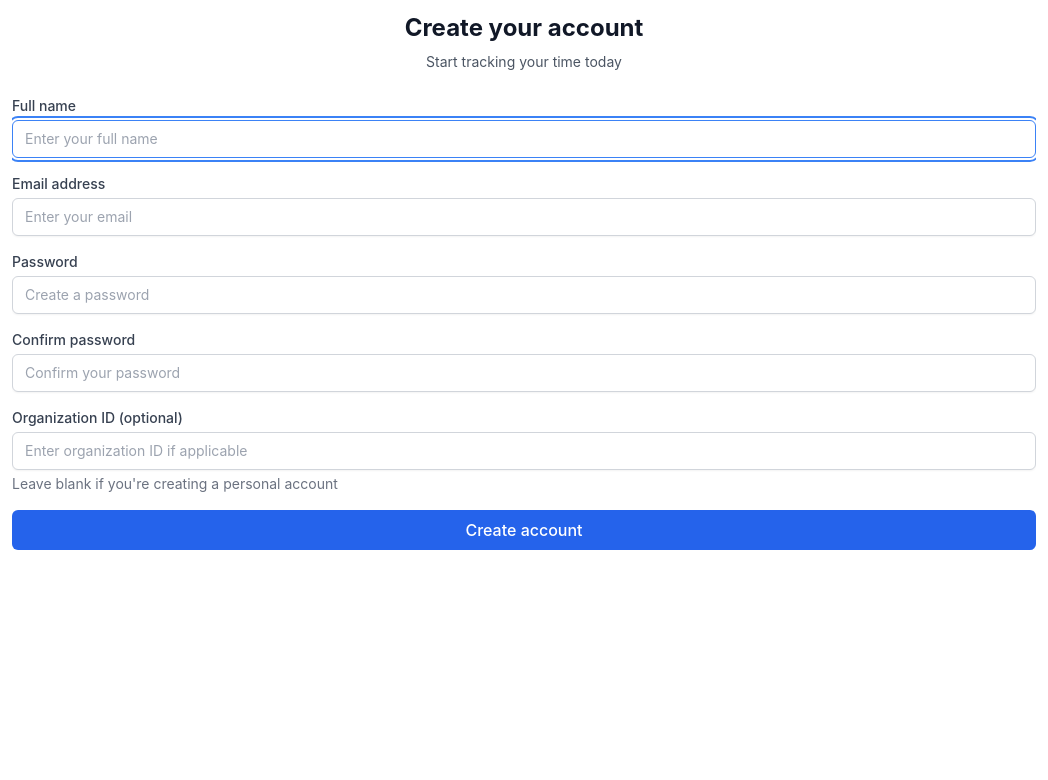
RegisterForm › validates password confirmation
Type "password123" into the password field labelled "Password".
click(524, 295); type("password123")  # box [12, 276, 1036, 314]
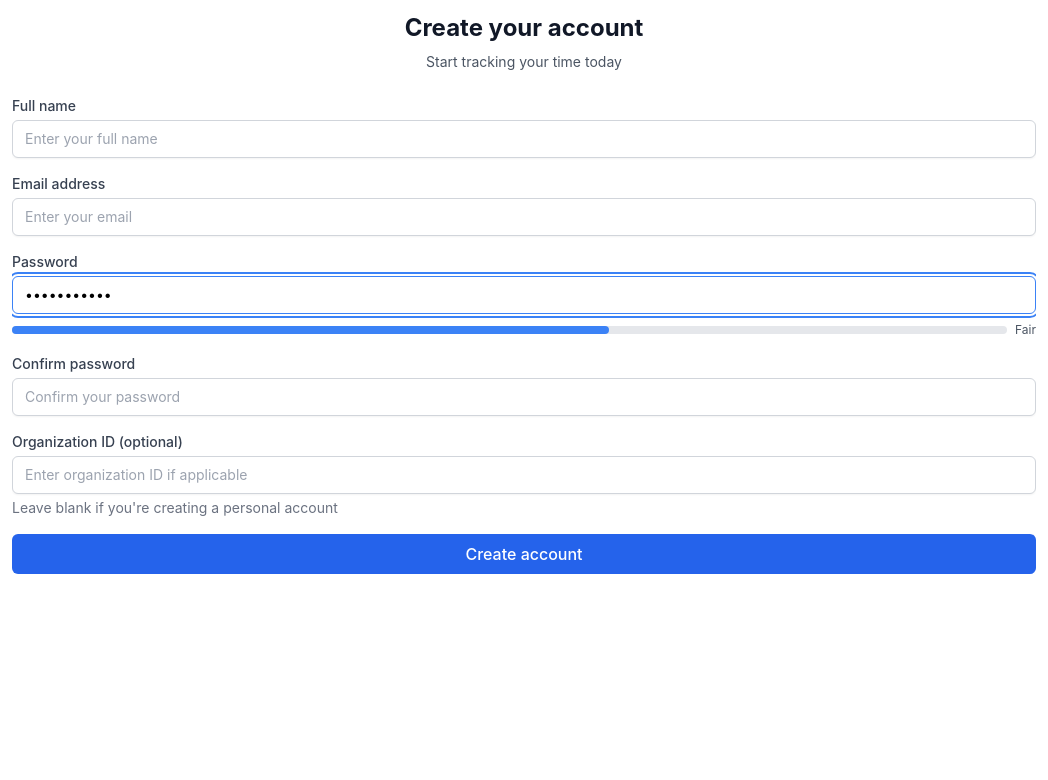
Type "different123" into the password field labelled "Confirm password".
click(524, 397); type("different123")  # box [12, 378, 1036, 416]
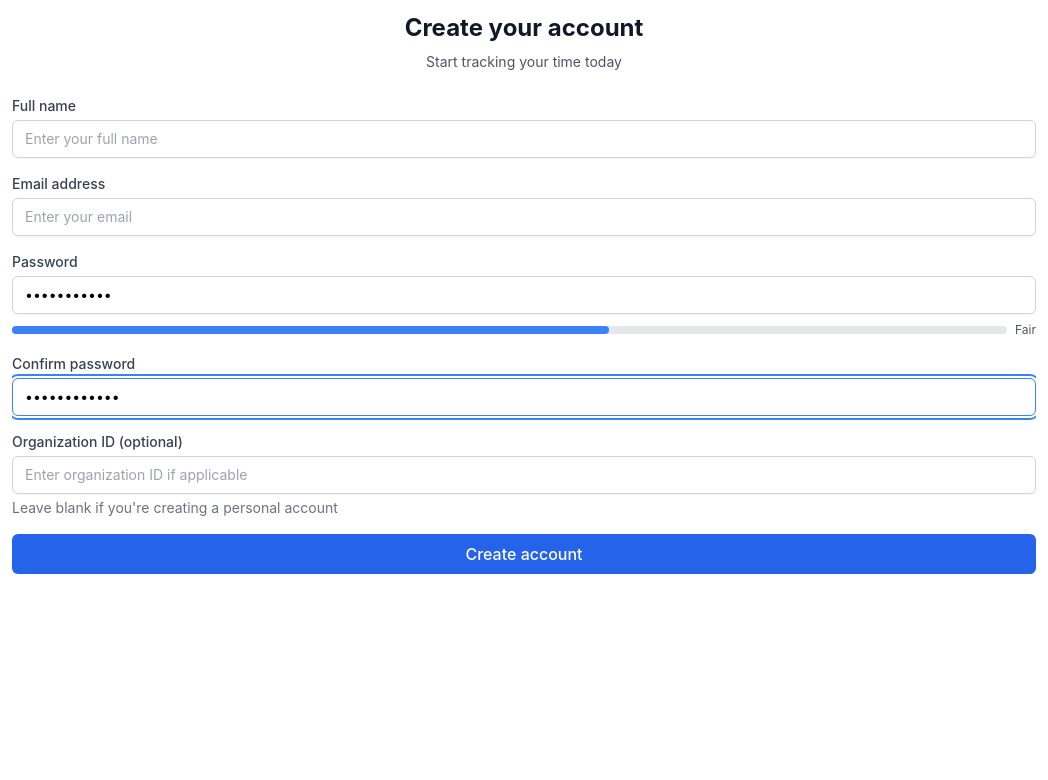
Click the button "Create account".
click(524, 554)  # box [12, 534, 1036, 574]
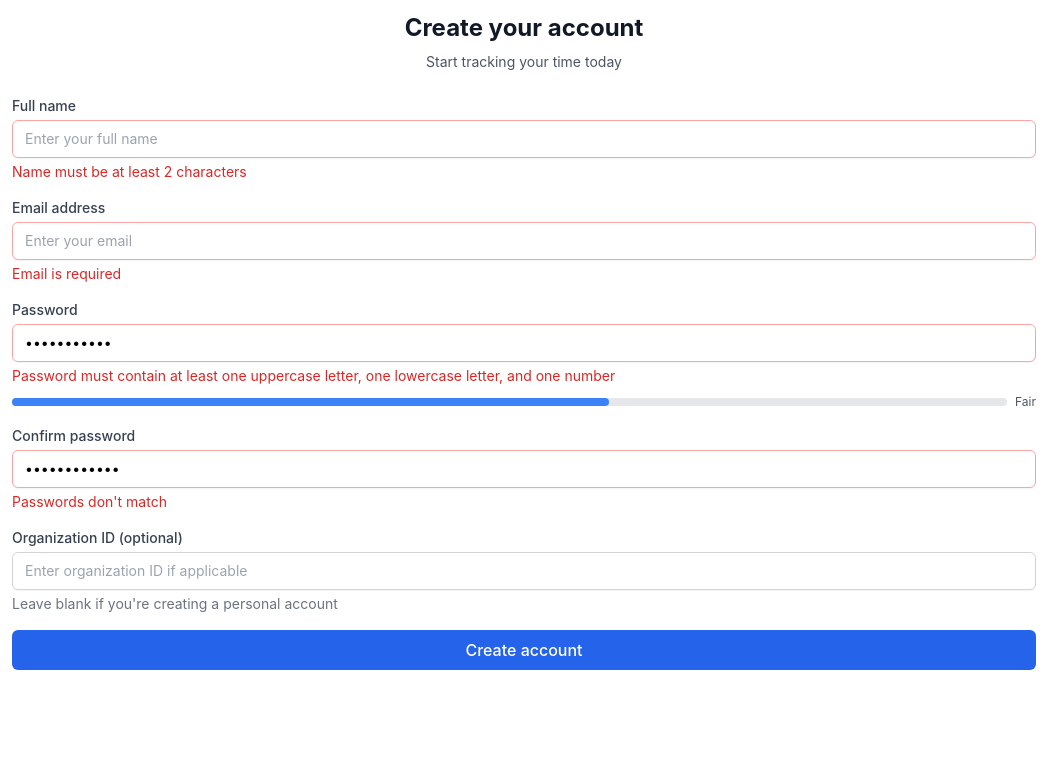
expect the text "Passwords don't match" is shown: met, box [12, 493, 167, 510]
